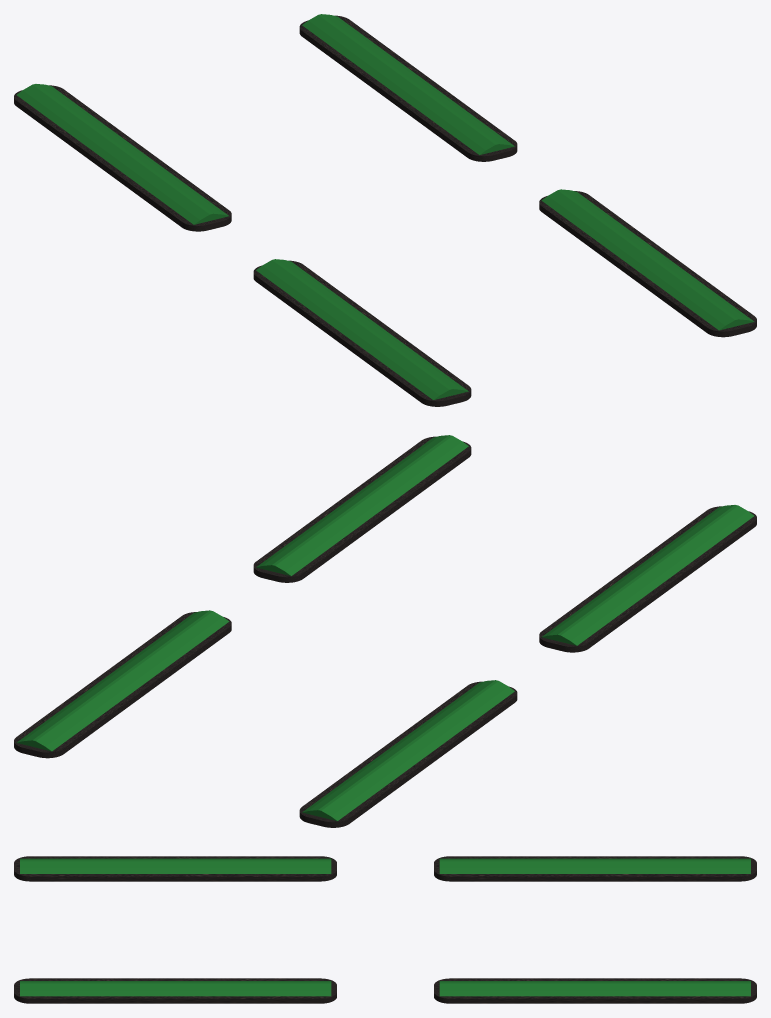
File: Mall Parking Area.glb
3 views of the same model, one above another, from view 1: azimuth 30°, elevation 25°; view 2: azimuth 150°, elevation 25°; view 3: azimuth 270°, elevation 25° (orthographic). The views are drawn at different scales.
Parts seen in each view (by area): view 1: Cube.037, Cube.035, Cube.072, Cube.036; view 2: Cube.072, Cube.036, Cube.037, Cube.035; view 3: Cube.072, Cube.037, Cube.036, Cube.035.
Boxes of the visible parts, left/top/right/bottom form: Cube.037: left=253, top=259, right=471, bottom=406; Cube.035: left=299, top=14, right=517, bottom=161; Cube.072: left=14, top=84, right=231, bottom=231; Cube.036: left=539, top=189, right=756, bottom=337; Cube.072: left=299, top=680, right=517, bottom=827; Cube.036: left=253, top=435, right=471, bottom=582; Cube.037: left=539, top=505, right=756, bottom=652; Cube.035: left=14, top=610, right=231, bottom=758; Cube.072: left=434, top=856, right=756, bottom=881; Cube.037: left=14, top=856, right=336, bottom=881; Cube.036: left=14, top=978, right=336, bottom=1003; Cube.035: left=434, top=978, right=756, bottom=1003.
Size of what is drawn, in the model's own units: 202 by 7.01 by 445.
Materials: 2 (1 with a texture image).
